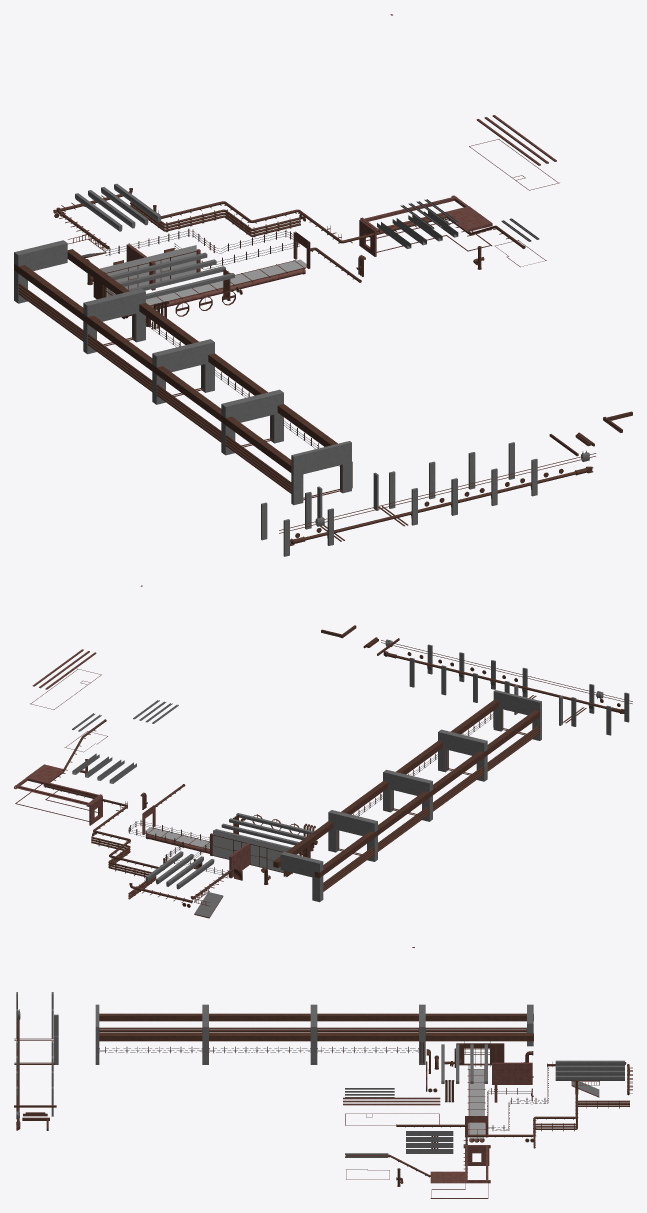
Rendered from CorridorDecorWithNoDoor.fbx.
3 renders of one model, top to bottom at view 1: azimuth 30°, elevation 25°; view 2: azimuth 150°, elevation 25°; view 3: azimuth 270°, elevation 25°, orthographic. The views are drawn at different scales.
Visible parts, largest first — view 1: Cube.094; view 2: Cube.094; view 3: Cube.094.
Part boxes in pixels (x1,y1,x2,y2): Cube.094: [14, 14, 632, 556]; Cube.094: [14, 585, 632, 918]; Cube.094: [14, 947, 632, 1198].
Size of the model in its own units: 12299 by 6759 by 17160.
